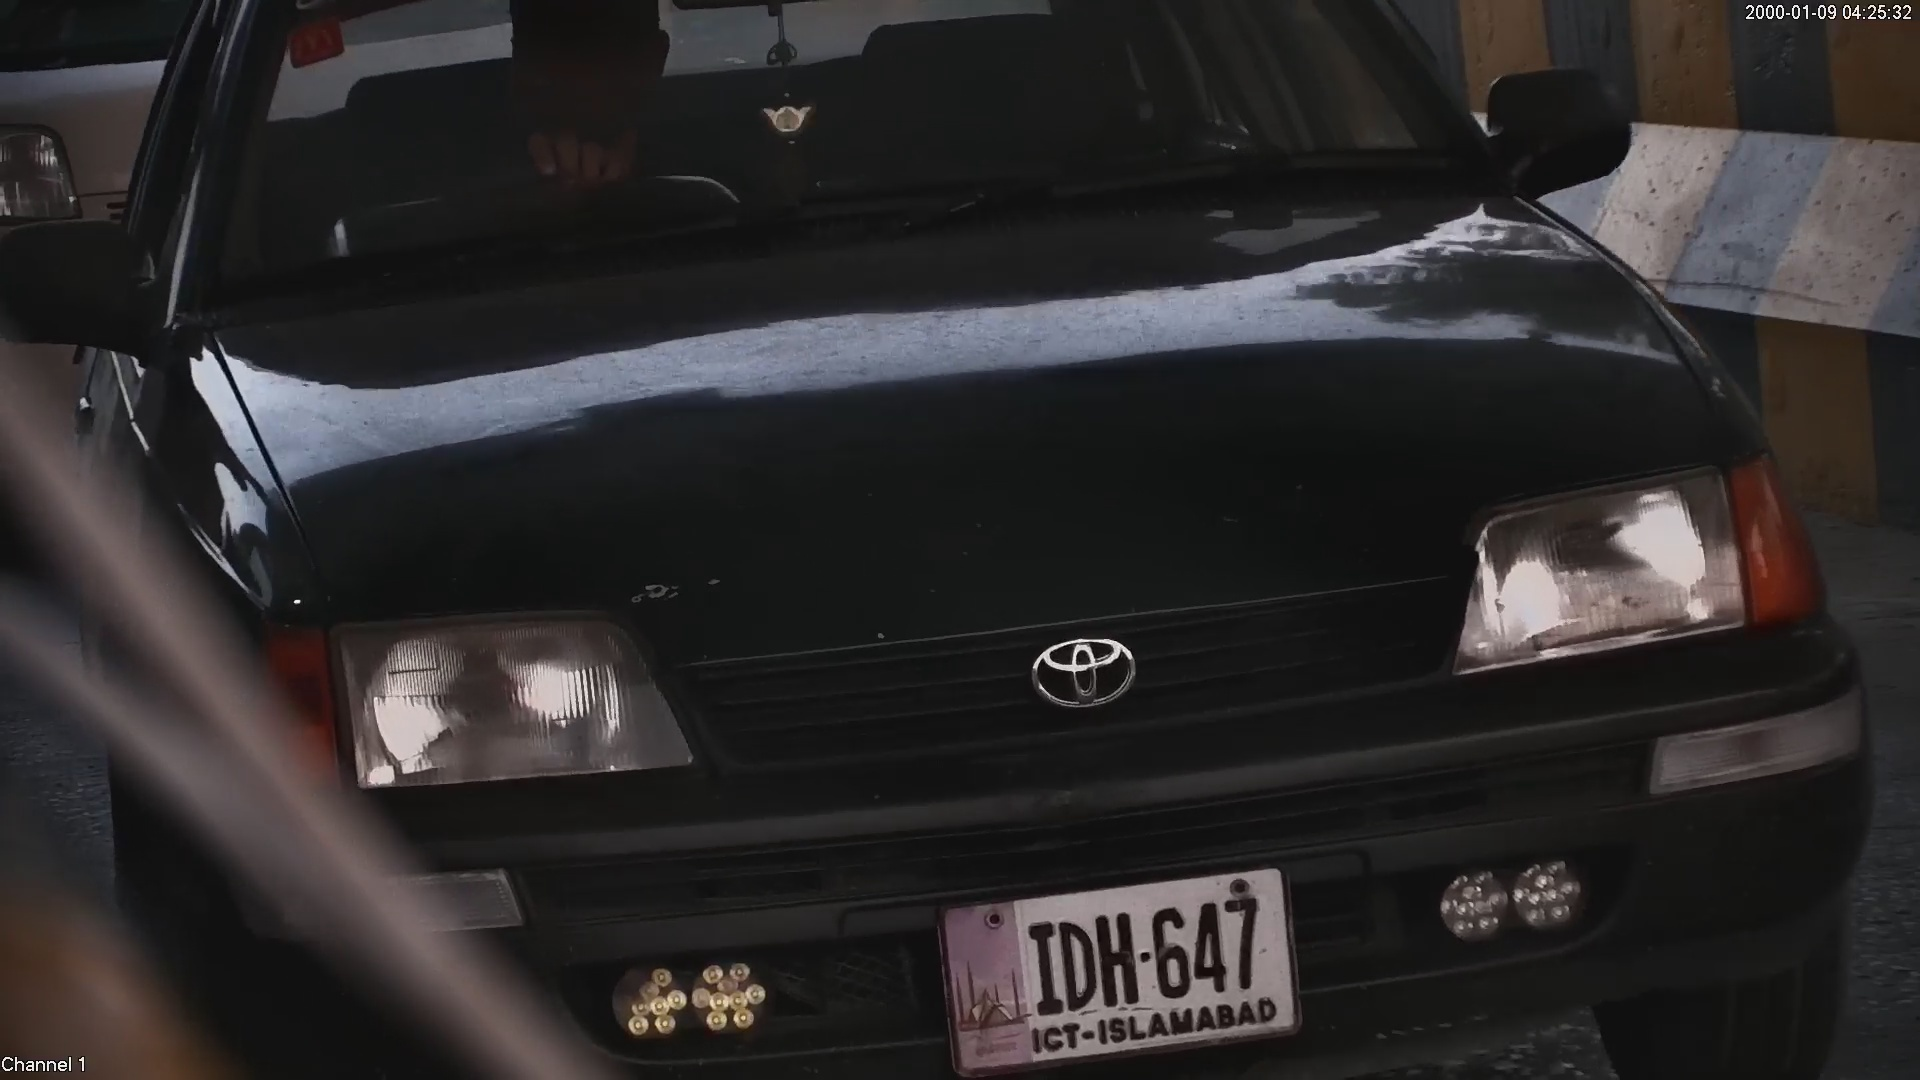Number_Plate: (913, 862, 1315, 1064)
Undefined: (273, 603, 669, 775), (1463, 479, 1797, 642), (1019, 625, 1147, 712)
